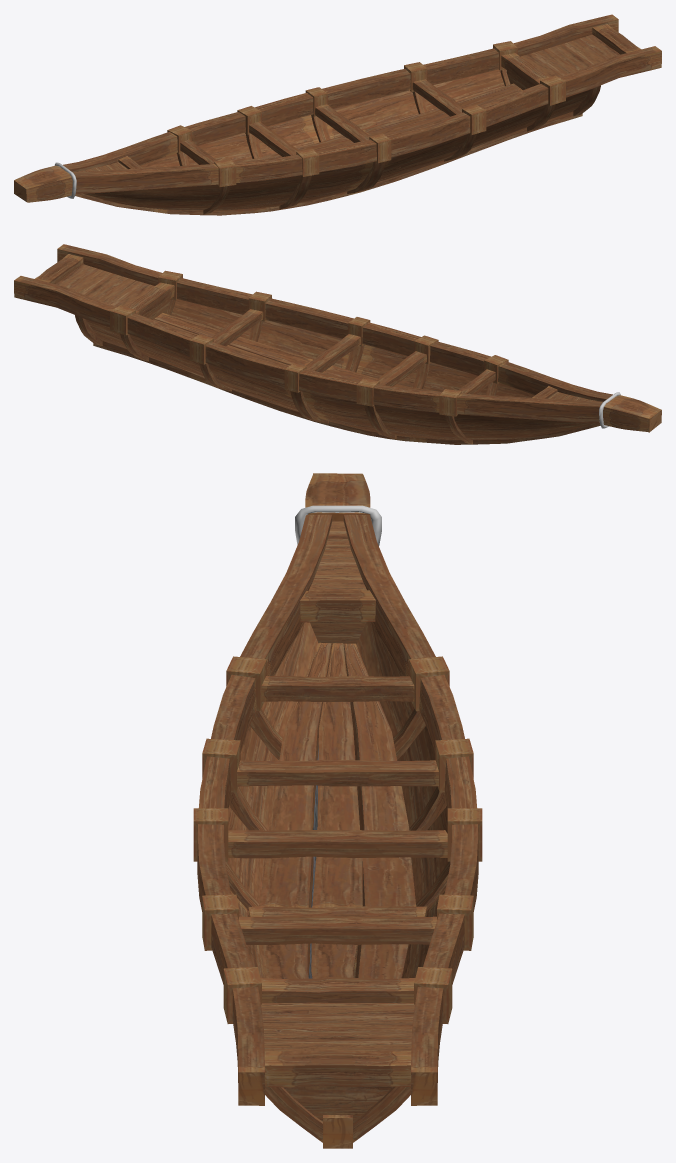
The model's file is SM_Farm_Boat_01.fbx.
3 views of the same model, one above another, from view 1: azimuth 30°, elevation 25°; view 2: azimuth 150°, elevation 25°; view 3: azimuth 270°, elevation 25° (orthographic). The views are drawn at different scales.
Visible parts, largest first — view 1: SM_Farm_Boat_01_LOD0; view 2: SM_Farm_Boat_01_LOD0; view 3: SM_Farm_Boat_01_LOD0.
Part boxes in pixels (x1,y1,x2,y2): SM_Farm_Boat_01_LOD0: (14,14,661,215); SM_Farm_Boat_01_LOD0: (14,244,661,444); SM_Farm_Boat_01_LOD0: (193,473,482,1148).
Bounding box in the file's own units: 717 × 104 × 145.
